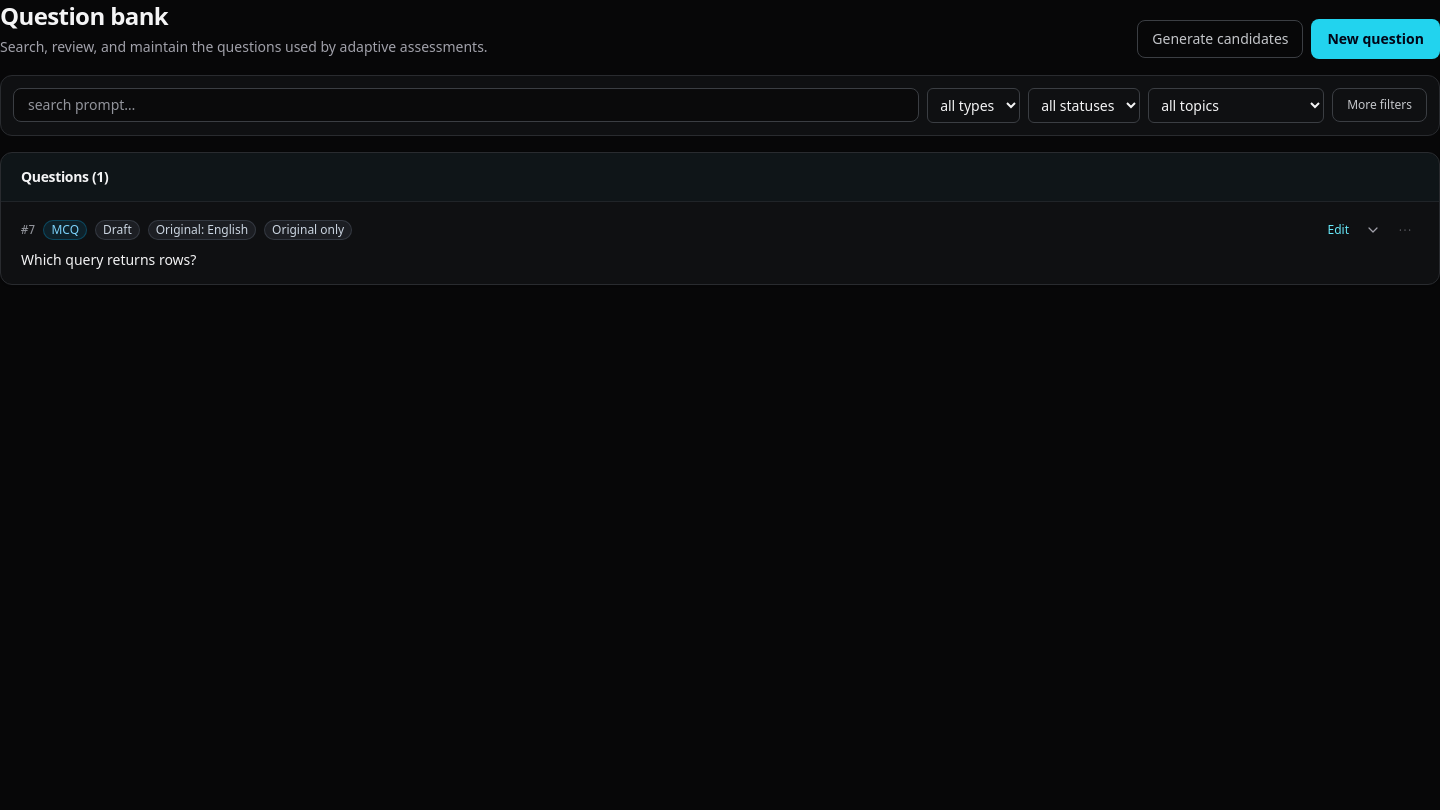
it: keeps a failed question deletion open with its API error
expect the text "Which query returns rows?" is shown: met, box [21,250,196,269]
Click the button named "Actions".
click(1405, 230)  # box [1391,216,1419,244]
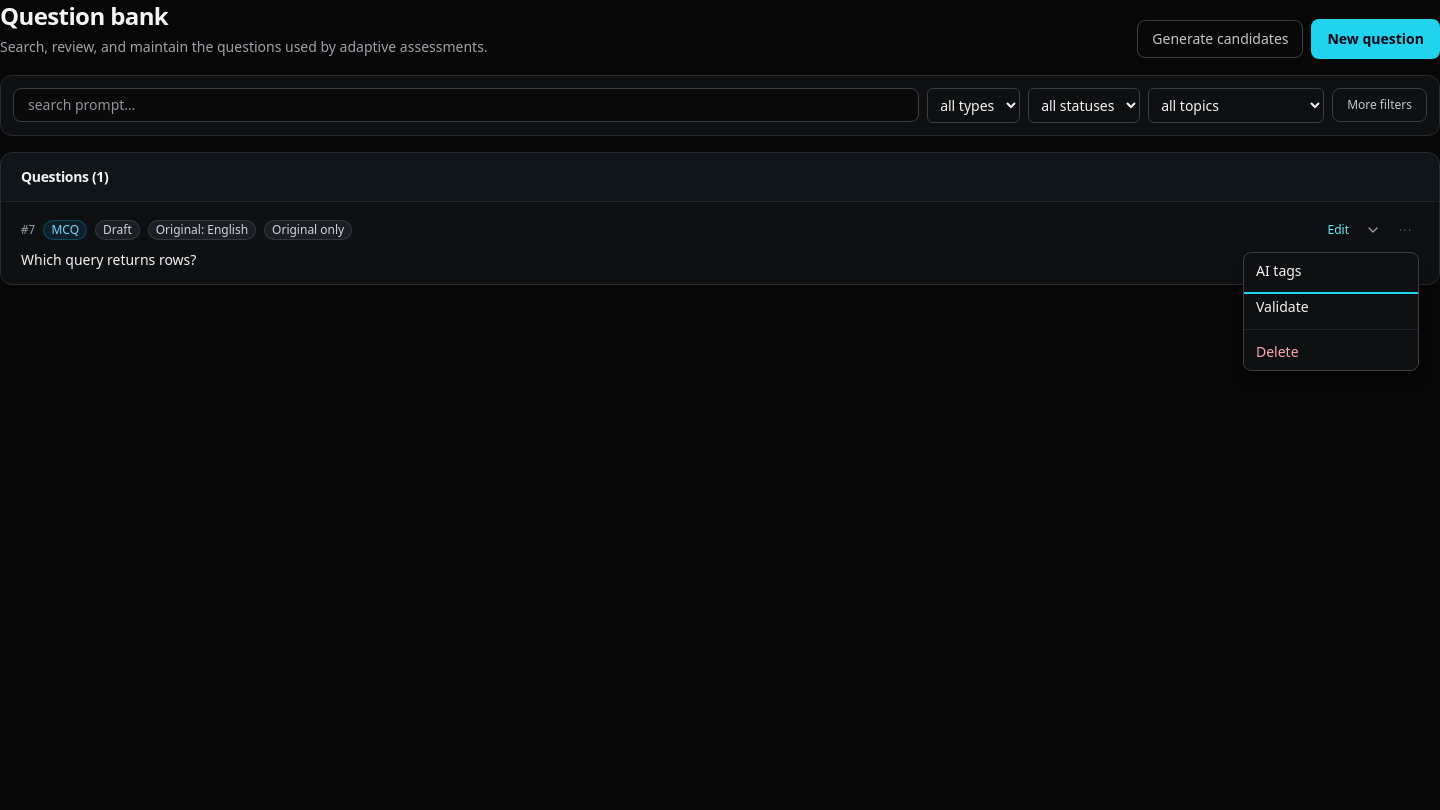
Click the menu item "Delete".
click(1331, 352)  # box [1244,334,1418,370]
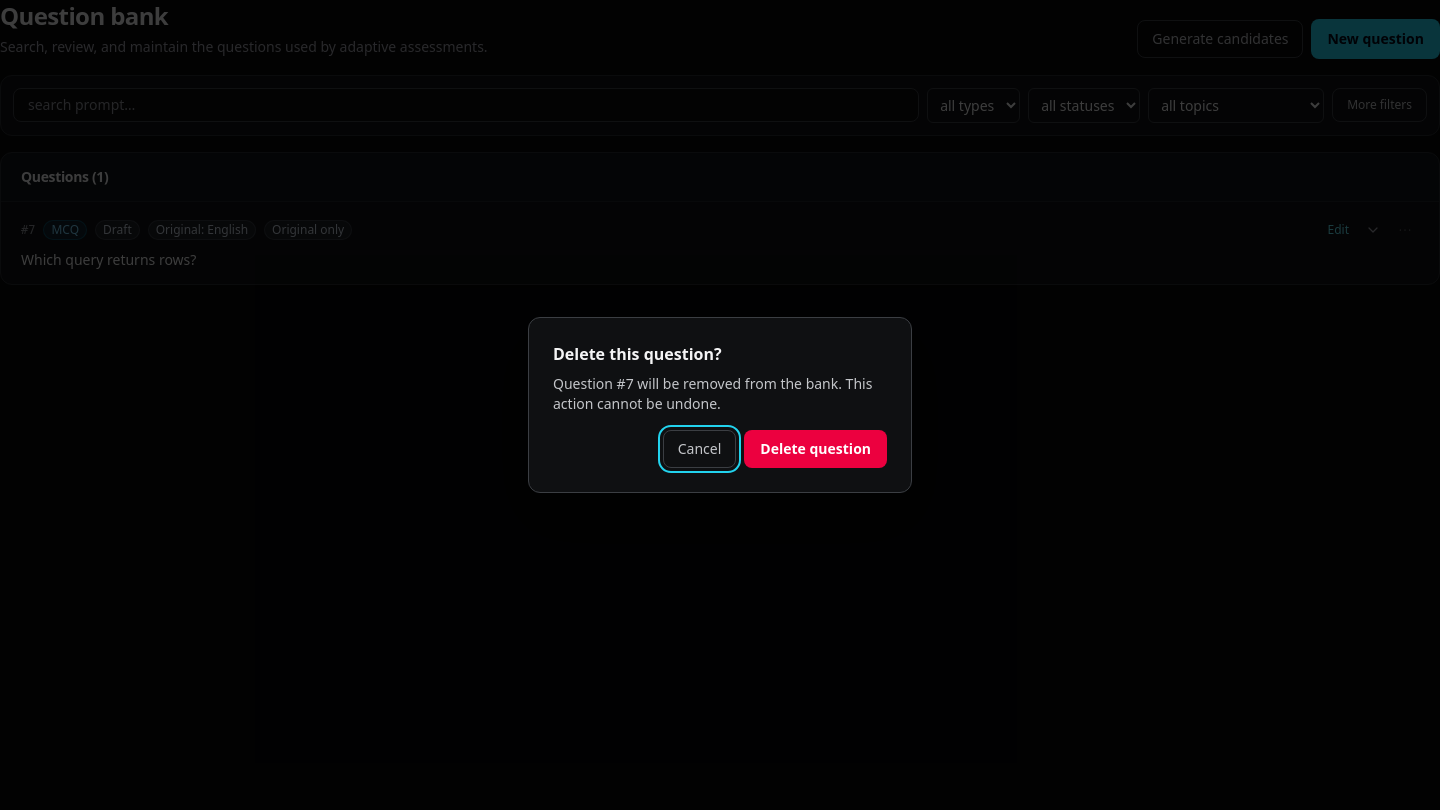
Click the button "Delete question".
click(816, 449)  # box [744,430,887,468]
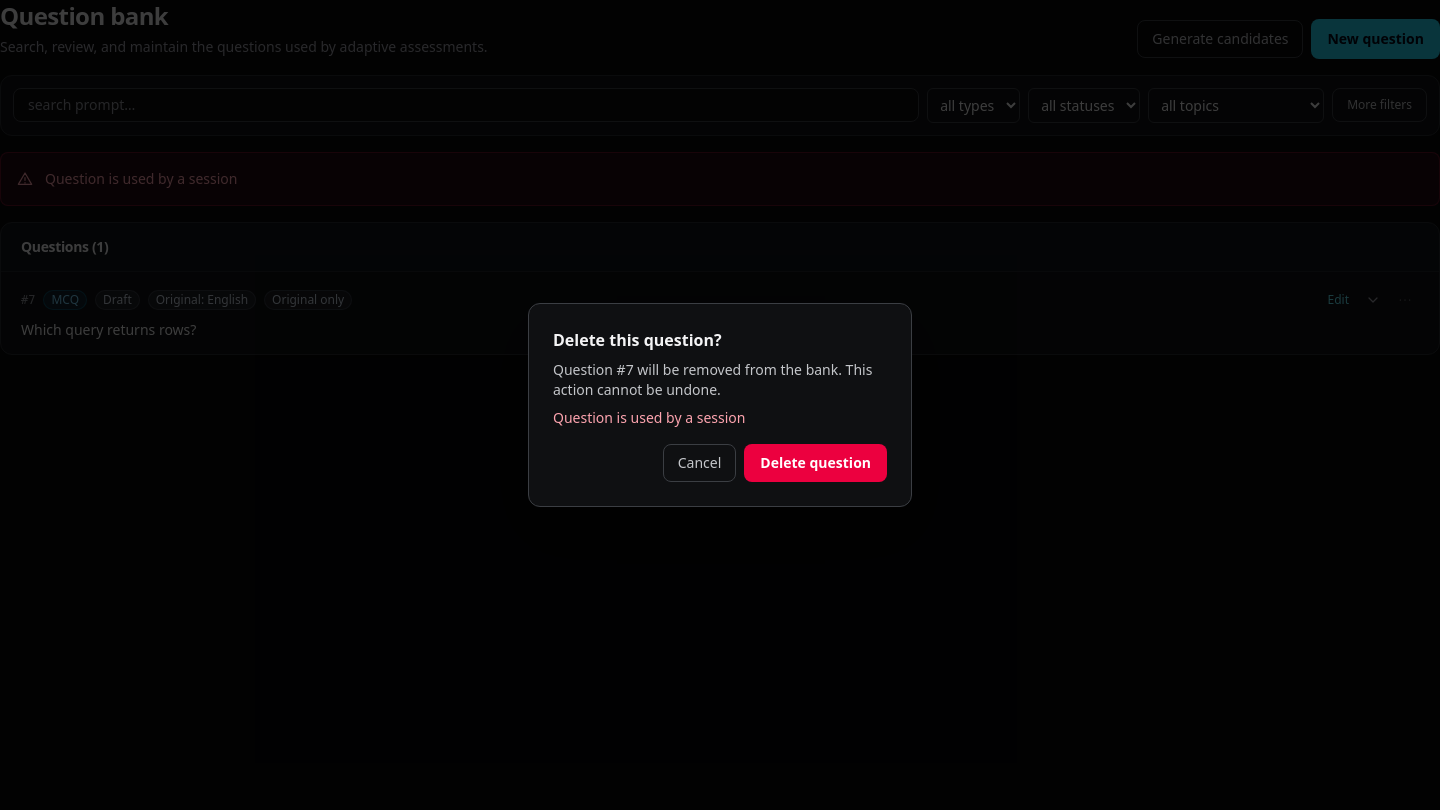
expect the dialog "Delete this question?" is shown: met, box [528,303,912,507]
expect the message reads "Question is used by a session": met, box [553,408,745,427]
